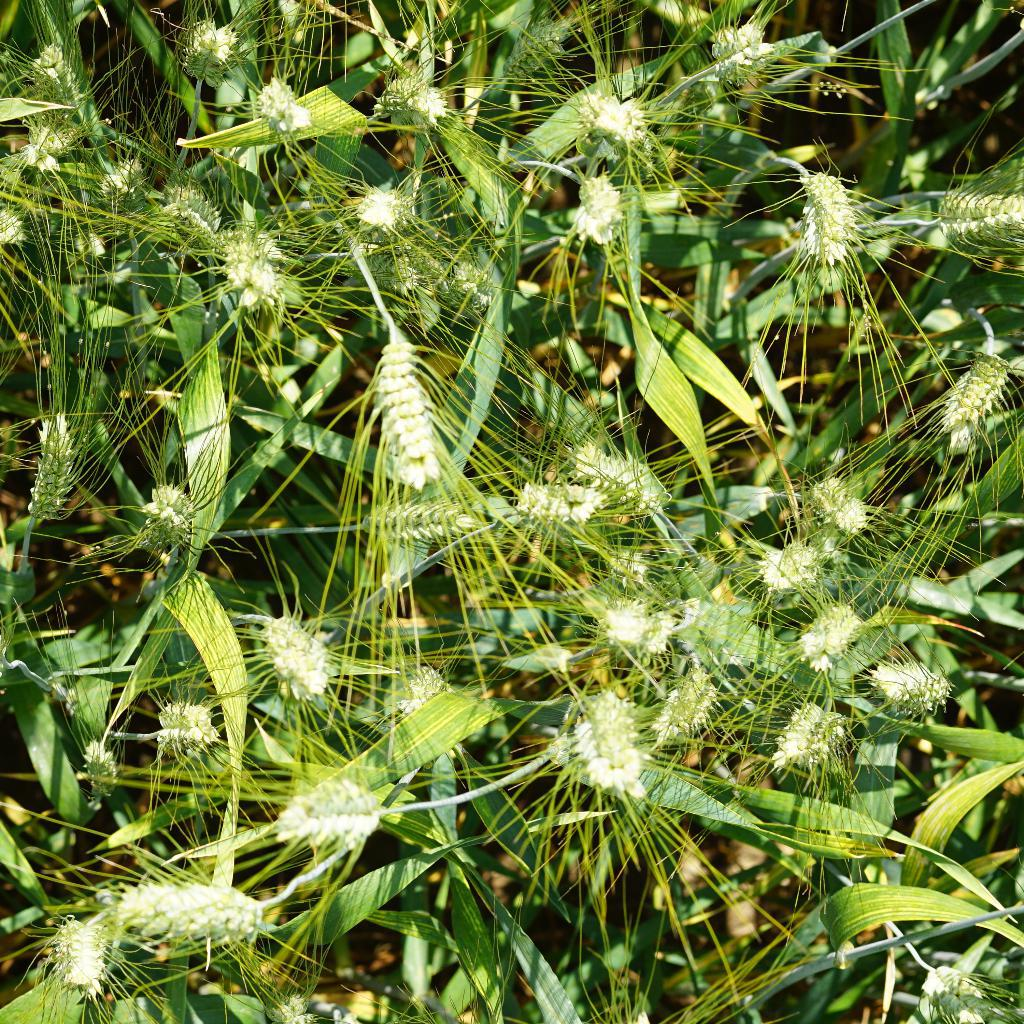0-0: (374, 308, 453, 487), (115, 860, 279, 945), (352, 479, 520, 560), (251, 609, 362, 714), (258, 763, 391, 841), (557, 683, 646, 799), (769, 688, 864, 792), (36, 894, 119, 1010), (572, 438, 677, 522), (867, 643, 964, 731), (198, 220, 292, 306), (946, 328, 1005, 460), (493, 464, 610, 530), (926, 172, 1024, 249), (126, 473, 213, 556), (591, 594, 695, 663), (792, 167, 858, 272), (651, 650, 720, 750), (583, 81, 666, 164), (18, 411, 81, 519), (905, 952, 998, 1024), (494, 15, 591, 83), (392, 656, 474, 733), (791, 462, 871, 539), (785, 590, 859, 669), (709, 6, 778, 89), (171, 11, 245, 86), (373, 58, 448, 130), (135, 175, 225, 234), (750, 530, 838, 590), (64, 740, 138, 810), (91, 152, 151, 236), (571, 169, 639, 243), (342, 168, 411, 239), (251, 77, 328, 139), (152, 706, 225, 768), (445, 249, 505, 320), (587, 544, 668, 596), (14, 108, 68, 179), (380, 236, 443, 296), (55, 219, 122, 269), (29, 30, 83, 85)
